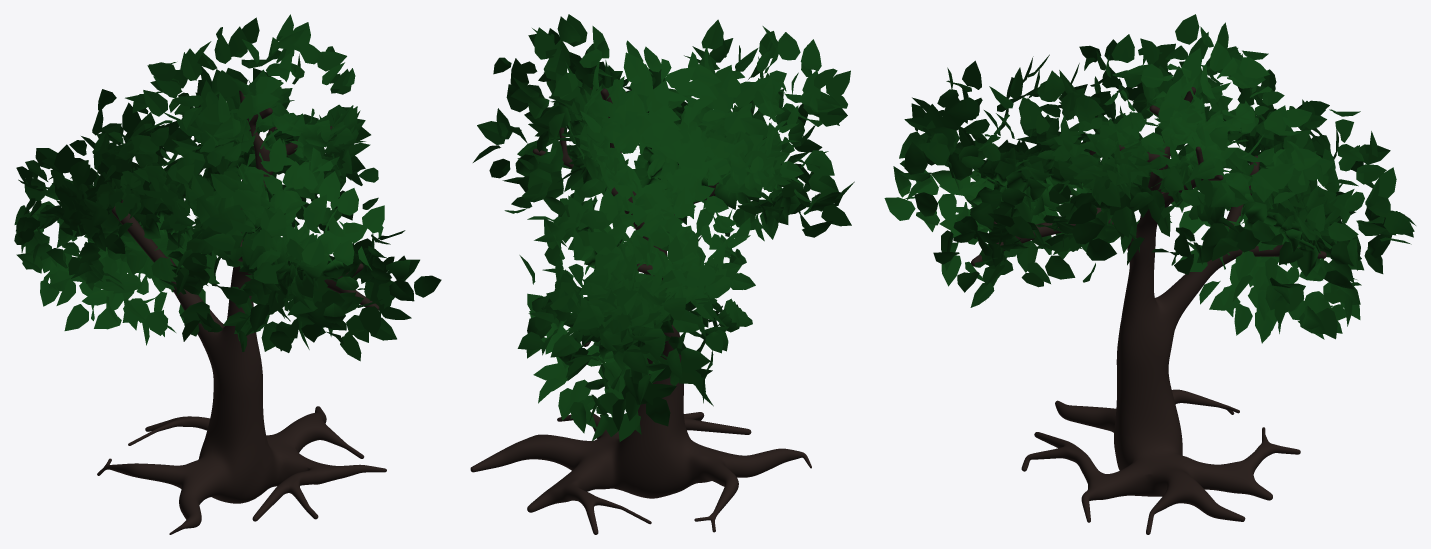
File: spawntree.fbx
The picture shows the model from 3 angles, left to right: view 1: azimuth 30°, elevation 25°; view 2: azimuth 150°, elevation 25°; view 3: azimuth 270°, elevation 25°; orthographic projection. The views are drawn at different scales.
Parts seen in each view (by area): view 1: Plane.014; view 2: Plane.014; view 3: Plane.014.
Part boxes in pixels (x1,y1,x2,y2): Plane.014: [14, 14, 441, 534]; Plane.014: [470, 14, 854, 534]; Plane.014: [884, 14, 1415, 534].
Size of the model in its own units: 222 by 315 by 330.
